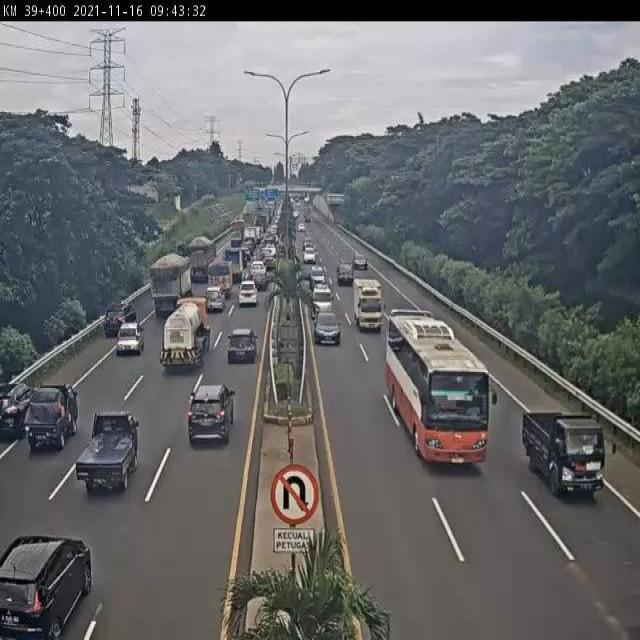big bus: (386, 307, 498, 468)
car: (523, 408, 618, 504), (71, 411, 139, 498), (21, 381, 82, 456), (187, 383, 235, 449), (113, 324, 147, 360), (103, 303, 138, 337), (228, 329, 258, 364), (312, 312, 341, 347), (237, 282, 259, 310), (205, 287, 226, 313)
small truck: (352, 280, 385, 332)
truck-m-: (159, 295, 212, 372), (147, 253, 194, 323)
